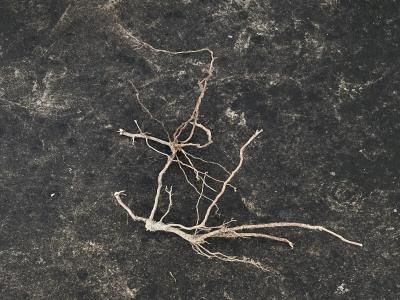Root: (114, 49, 362, 271)
